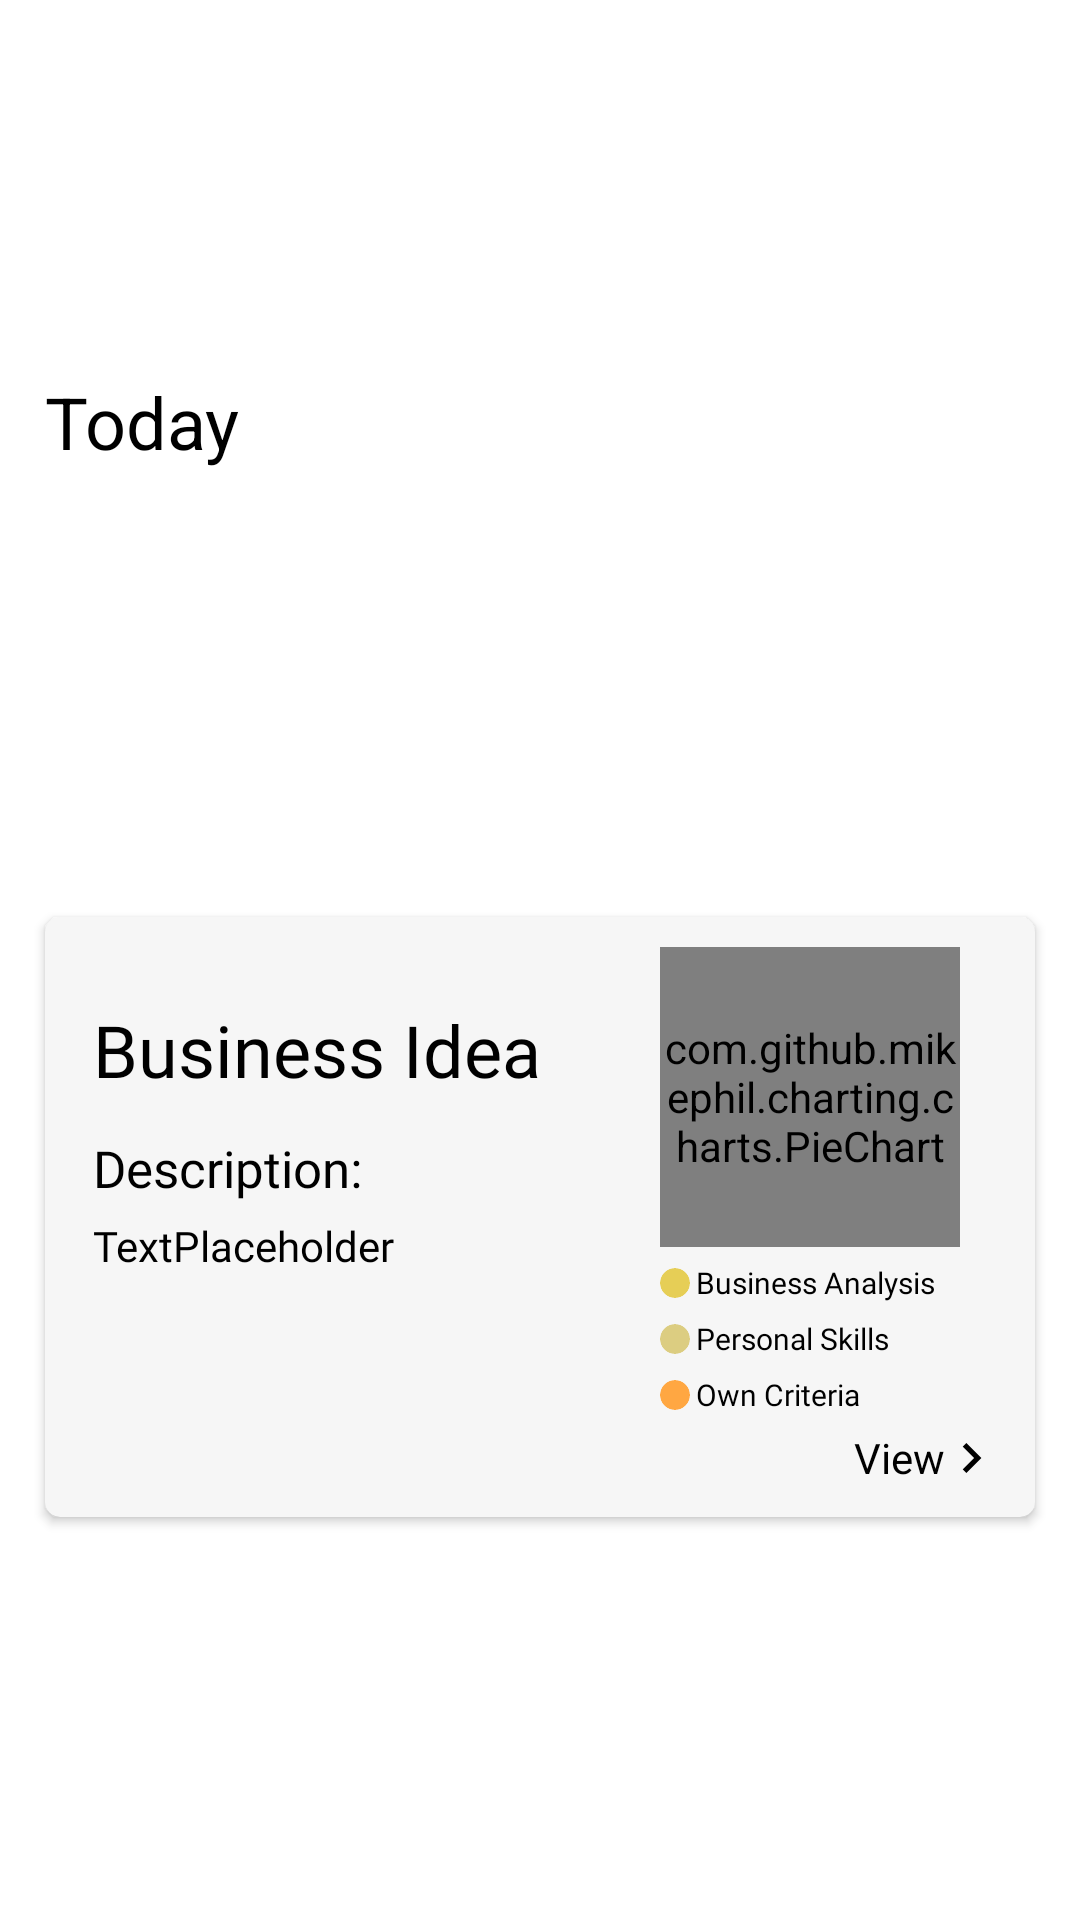

Icon bounding boxes for this 1080px×1920px phone screenshot, format (x1, y1, x2, y2):
chevron right: (963, 1443, 981, 1473)
